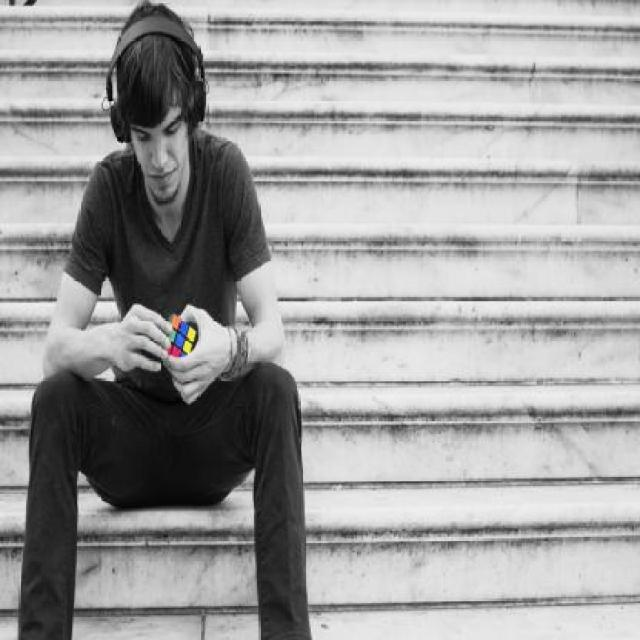earphone: (102, 7, 218, 146)
